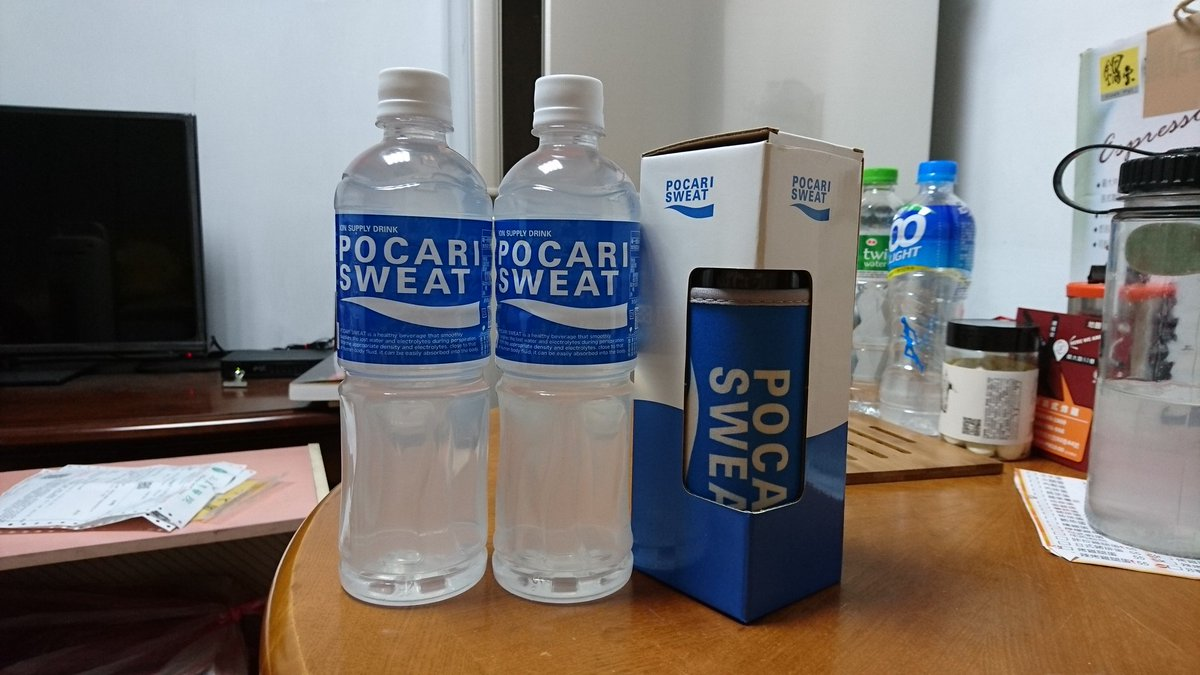POCARI SWEAT: (335, 68, 488, 614), (492, 66, 645, 612)
